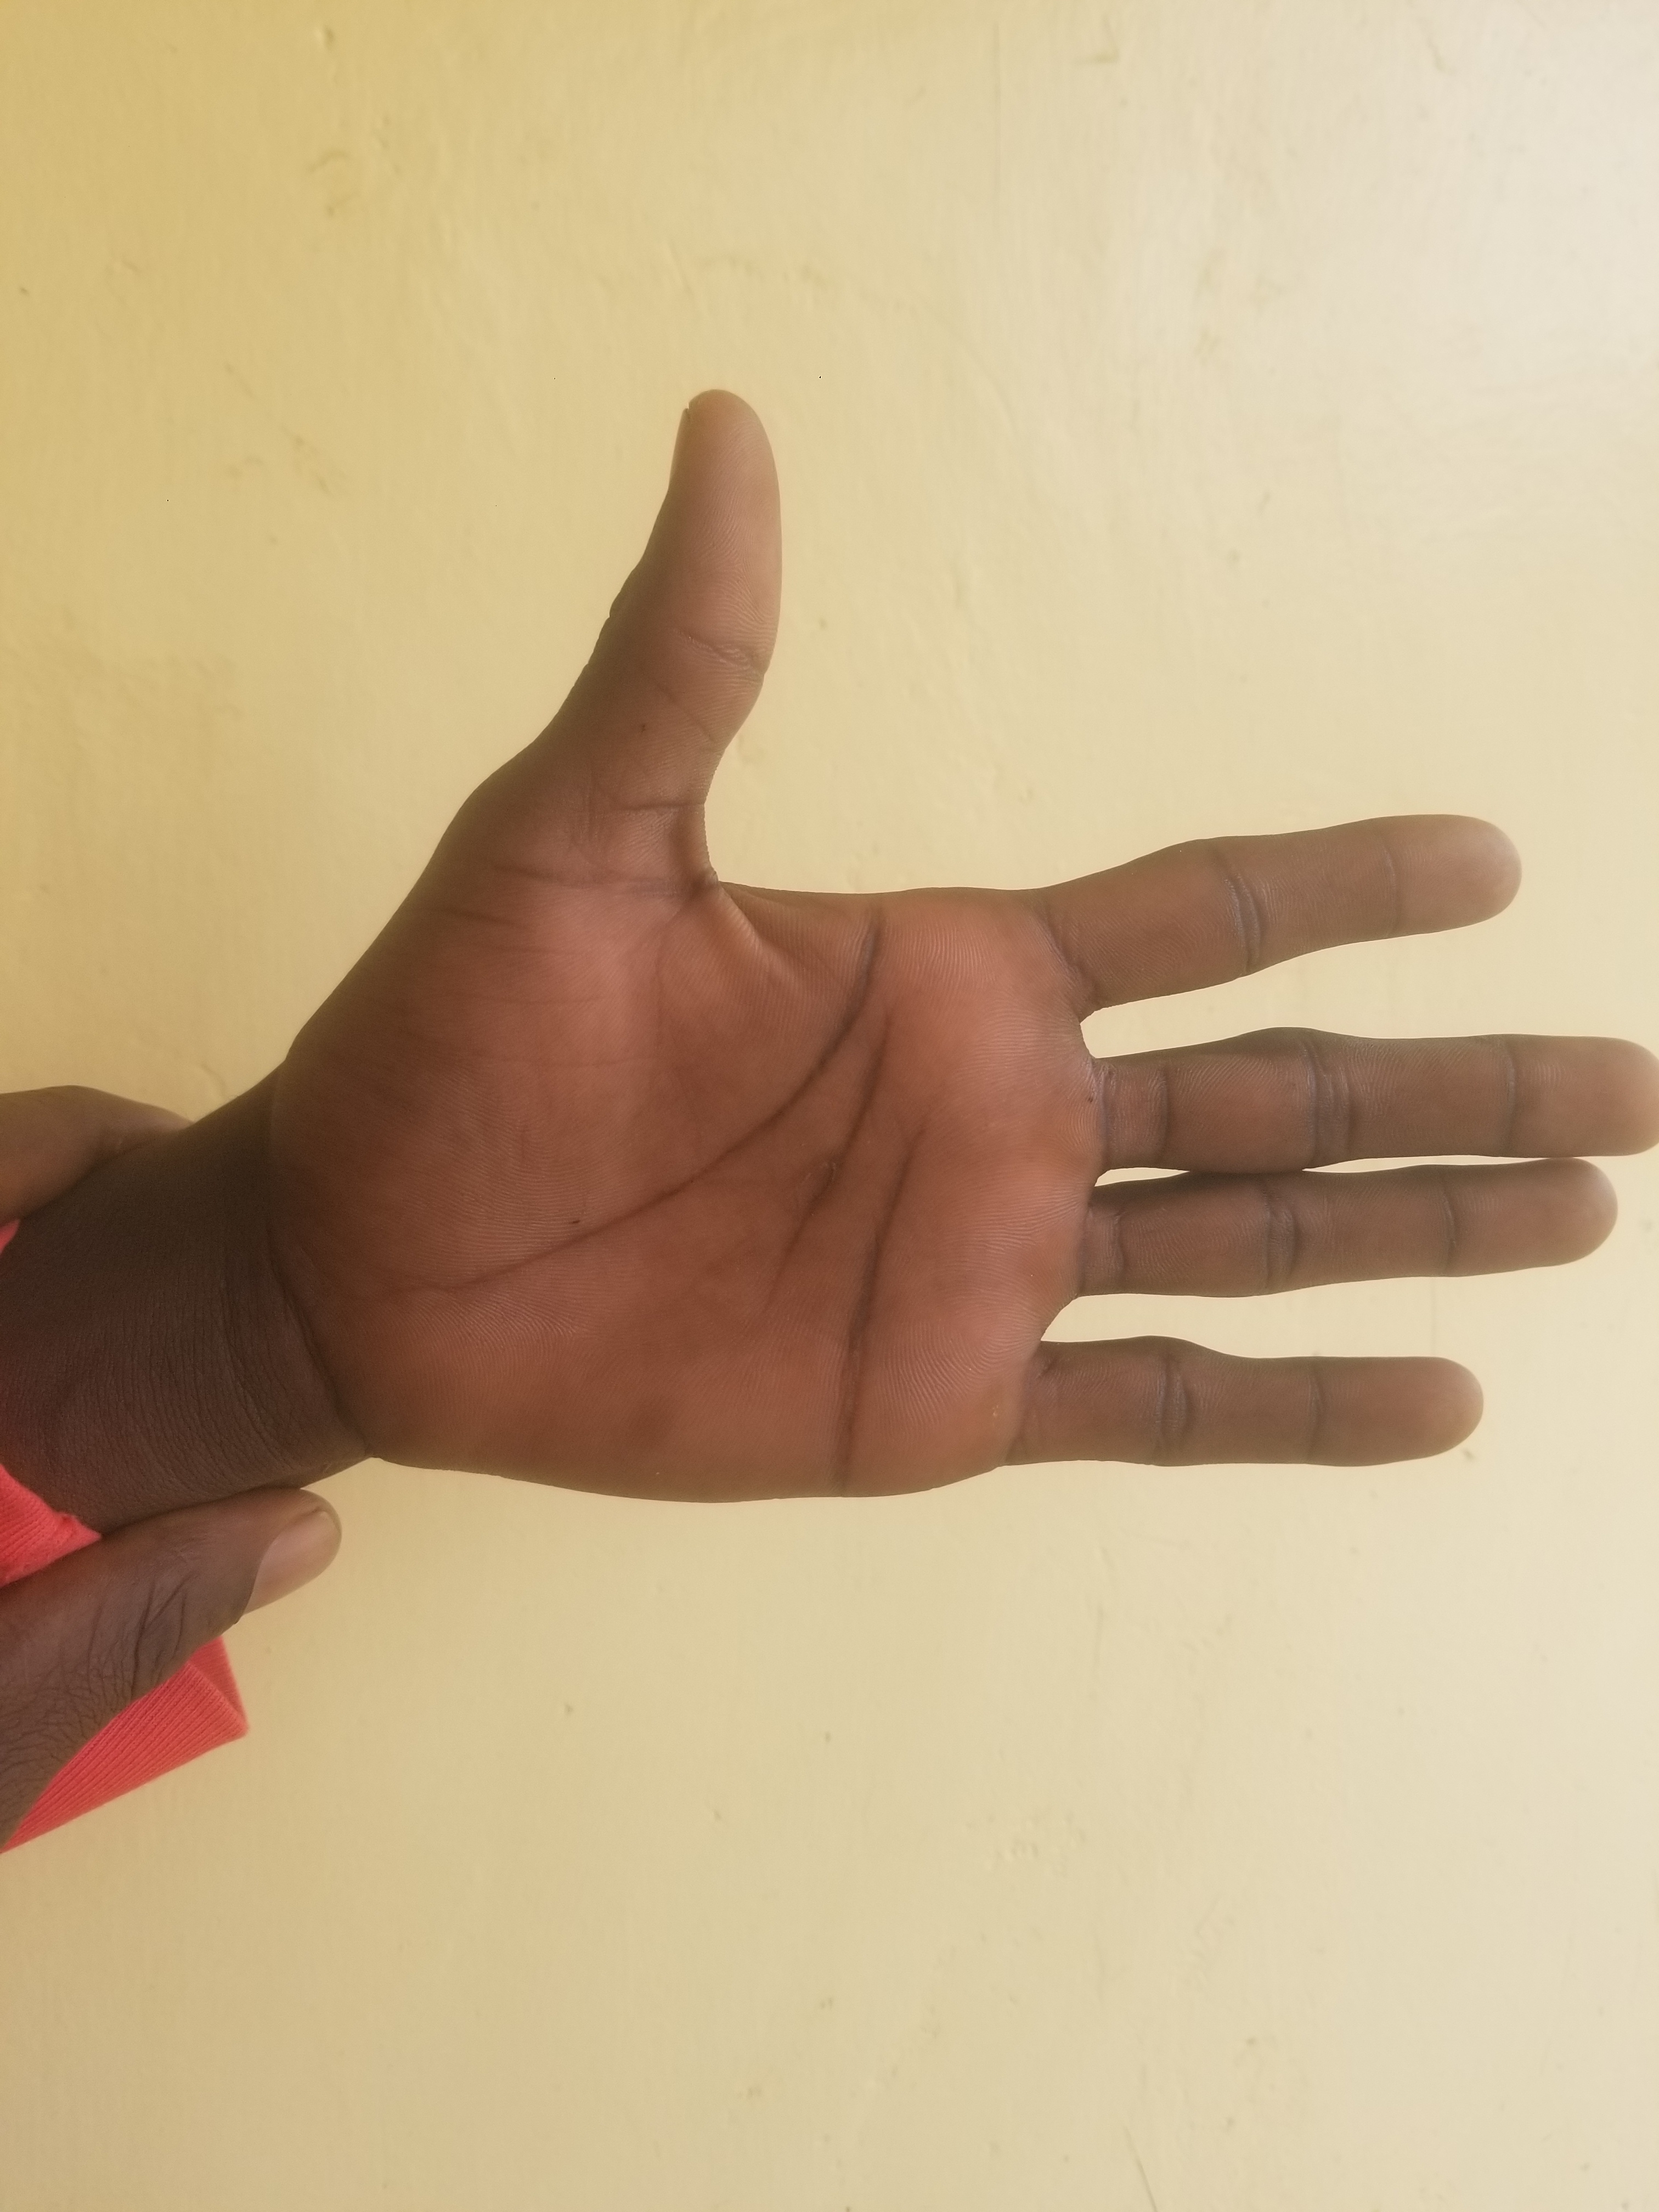open palm: (315, 320, 1649, 1989)
